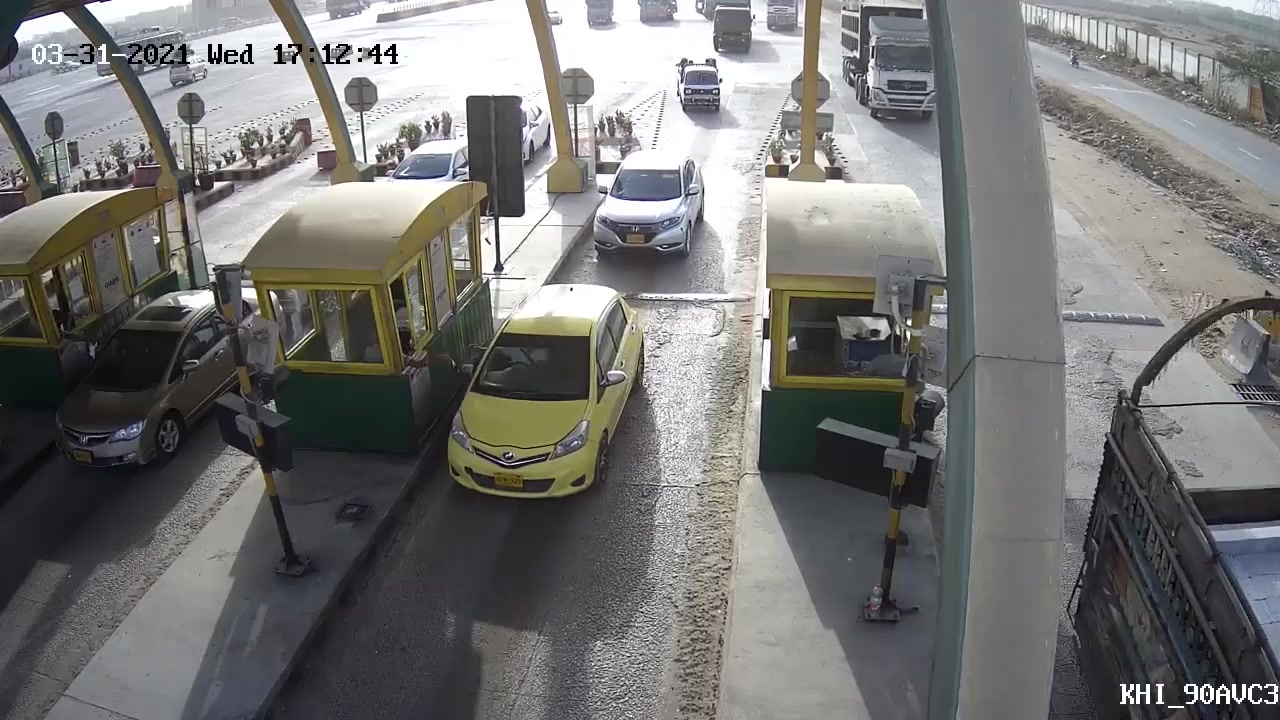F1: (443, 266, 647, 517), (598, 146, 705, 261)
